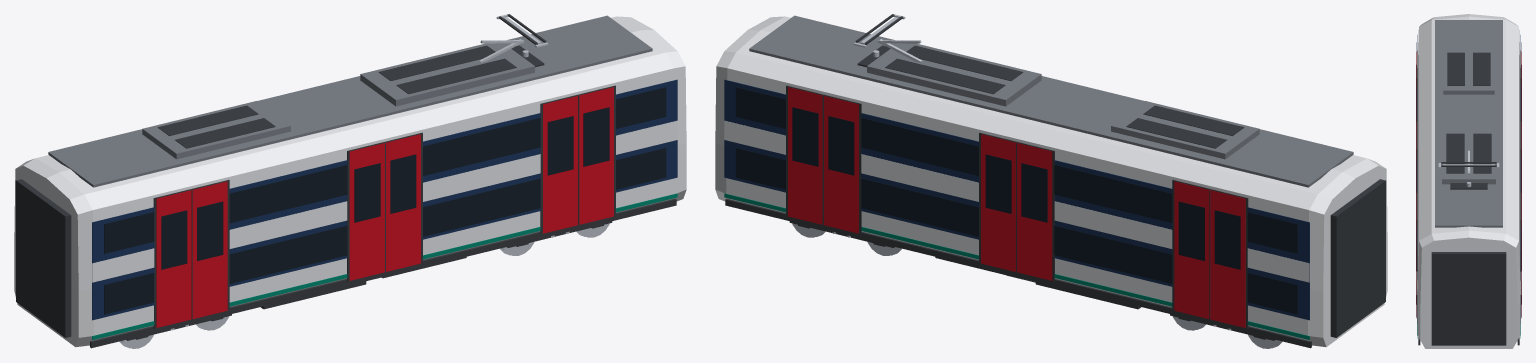
Rendered from rer_a_mi09_car.glb.
3 renders of one model, left to right at view 1: azimuth 30°, elevation 25°; view 2: azimuth 150°, elevation 25°; view 3: azimuth 270°, elevation 25°, orthographic. The views are drawn at different scales.
Visible parts, largest first — view 1: rer_a_mi09_neutral; view 2: rer_a_mi09_neutral; view 3: rer_a_mi09_neutral.
Part boxes in pixels (box(x1,y1,x2,y2)): rer_a_mi09_neutral: box(14, 14, 686, 348); rer_a_mi09_neutral: box(715, 14, 1387, 348); rer_a_mi09_neutral: box(1416, 14, 1521, 348).
Bounding box in the file's own units: 15.14 × 4.88 × 2.97.
